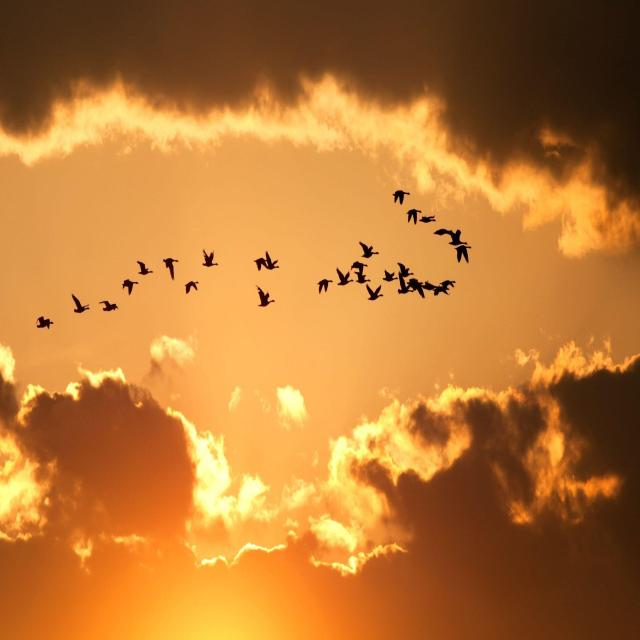bird: (255, 284, 276, 308), (396, 270, 414, 296), (70, 292, 91, 314), (162, 256, 179, 282), (358, 240, 381, 259), (201, 245, 219, 269), (336, 266, 354, 288), (365, 282, 384, 302), (453, 245, 472, 264), (136, 257, 154, 277), (121, 277, 139, 297), (392, 188, 411, 206), (315, 278, 335, 295), (448, 229, 468, 246), (98, 298, 120, 313), (265, 250, 280, 272), (252, 253, 269, 272), (36, 312, 54, 329), (396, 261, 414, 278), (183, 277, 200, 294), (381, 266, 397, 284), (350, 260, 369, 275), (412, 280, 426, 300), (406, 208, 422, 225), (406, 277, 424, 291), (353, 271, 372, 284), (433, 227, 453, 237), (422, 280, 440, 291), (418, 214, 437, 224), (432, 286, 451, 296), (439, 278, 457, 288)
